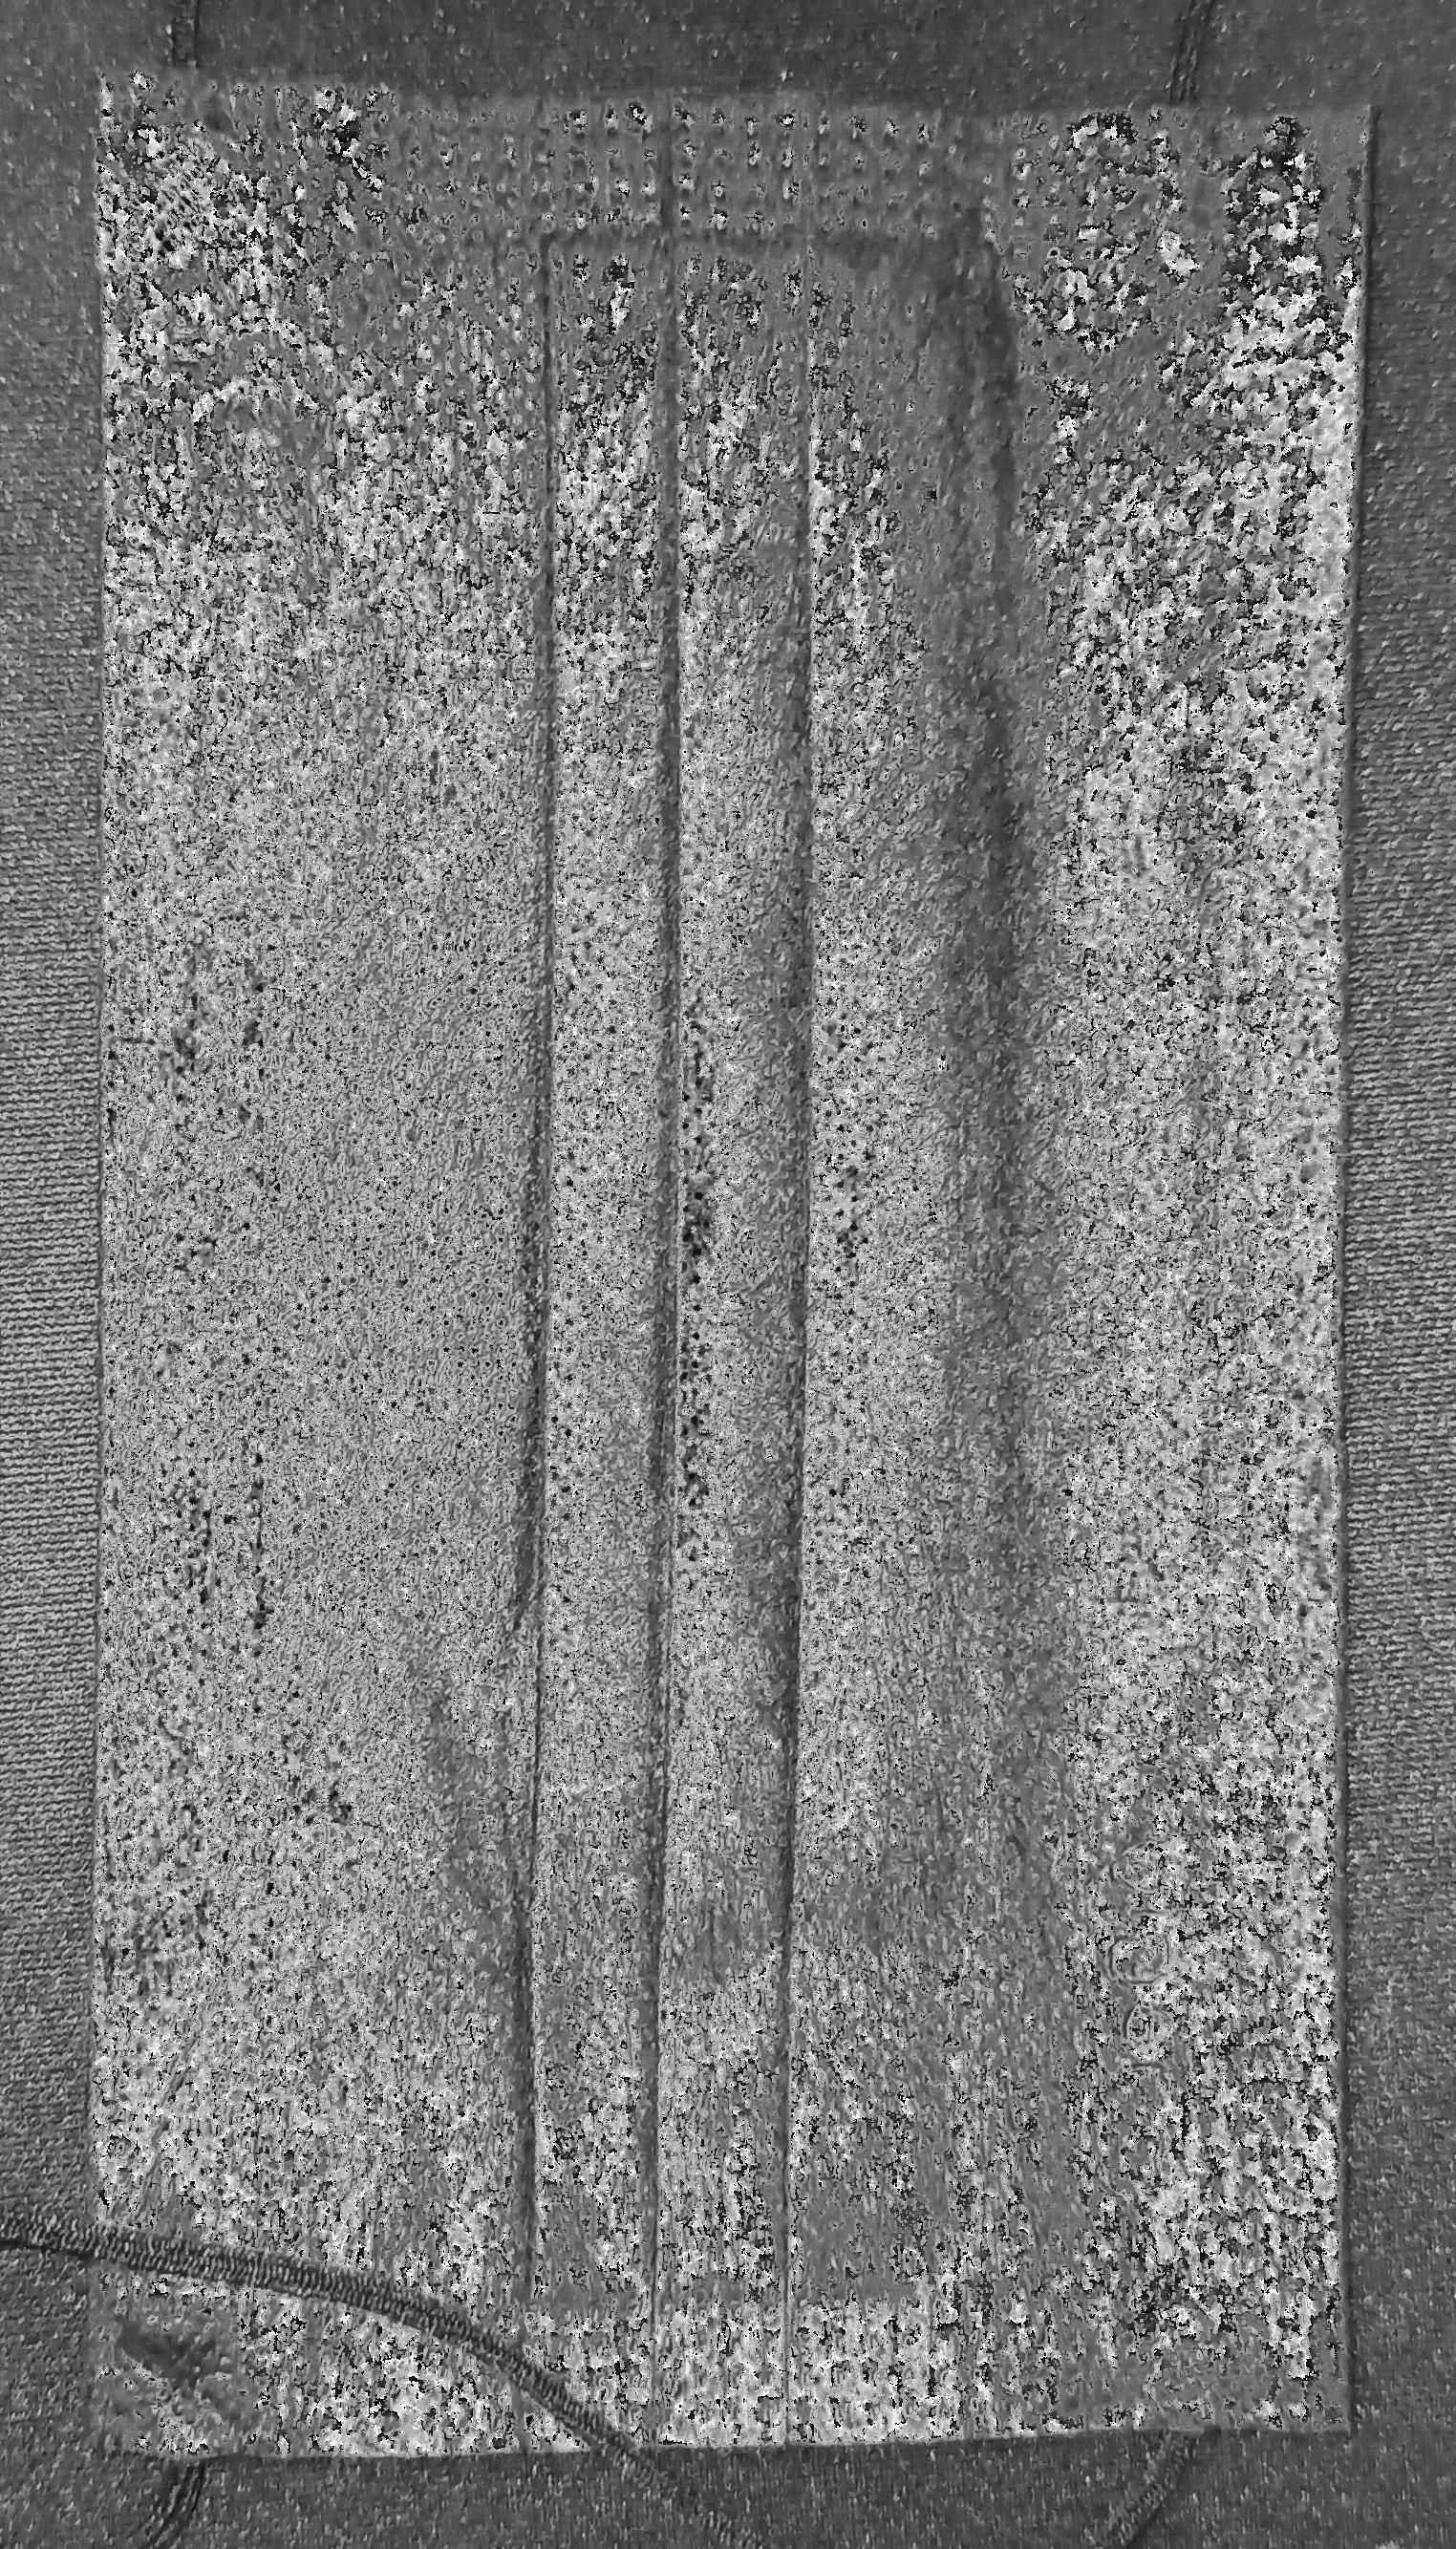Low GSM: (325, 329, 1172, 2241)
